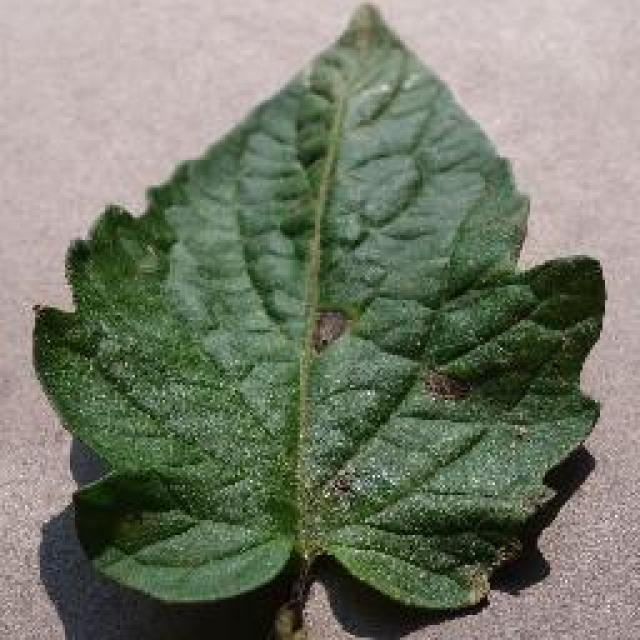Tomato_Late_Blight: (316, 241, 521, 508)
